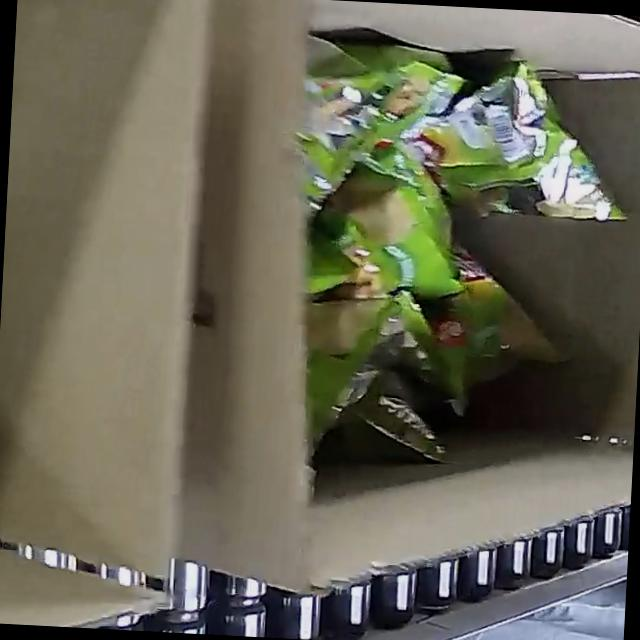yogurt: (280, 35, 638, 482)
